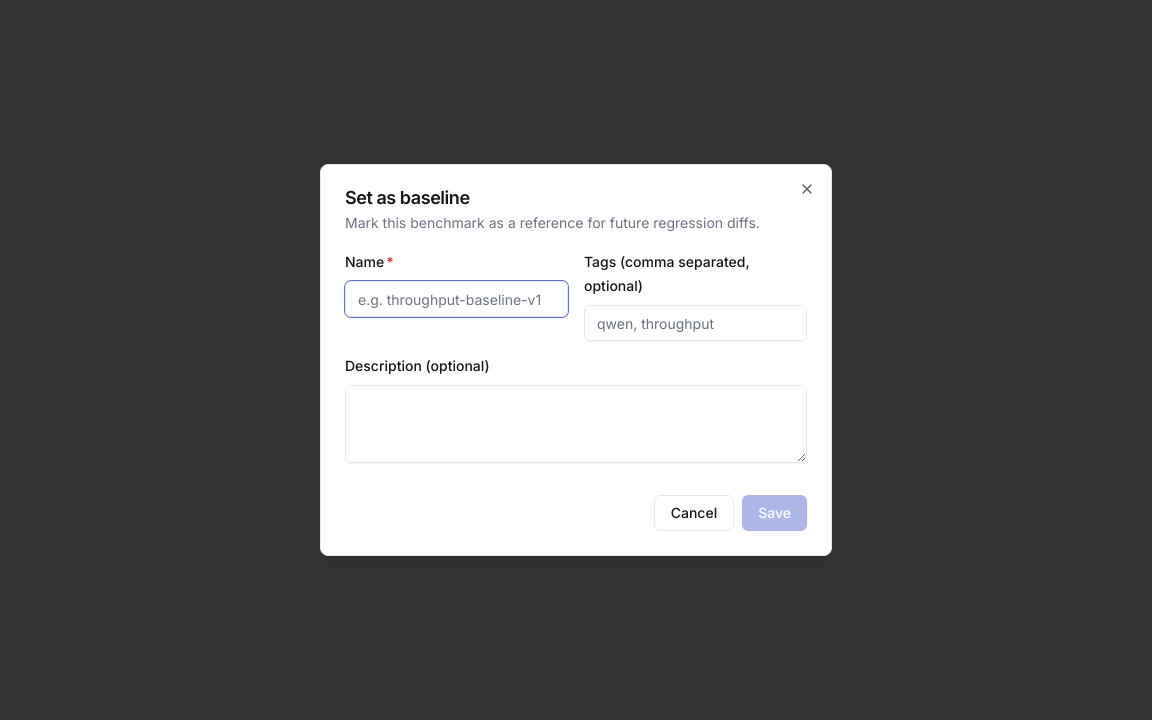
Scenario: SetBaselineDialog › submit button is disabled until name has a value
Expected: the button "Save" is disabled, [742,495,807,531]
Type "v1" into the field labelled "Name*".
click(456, 299); type("v1")  # box [345,281,568,317]
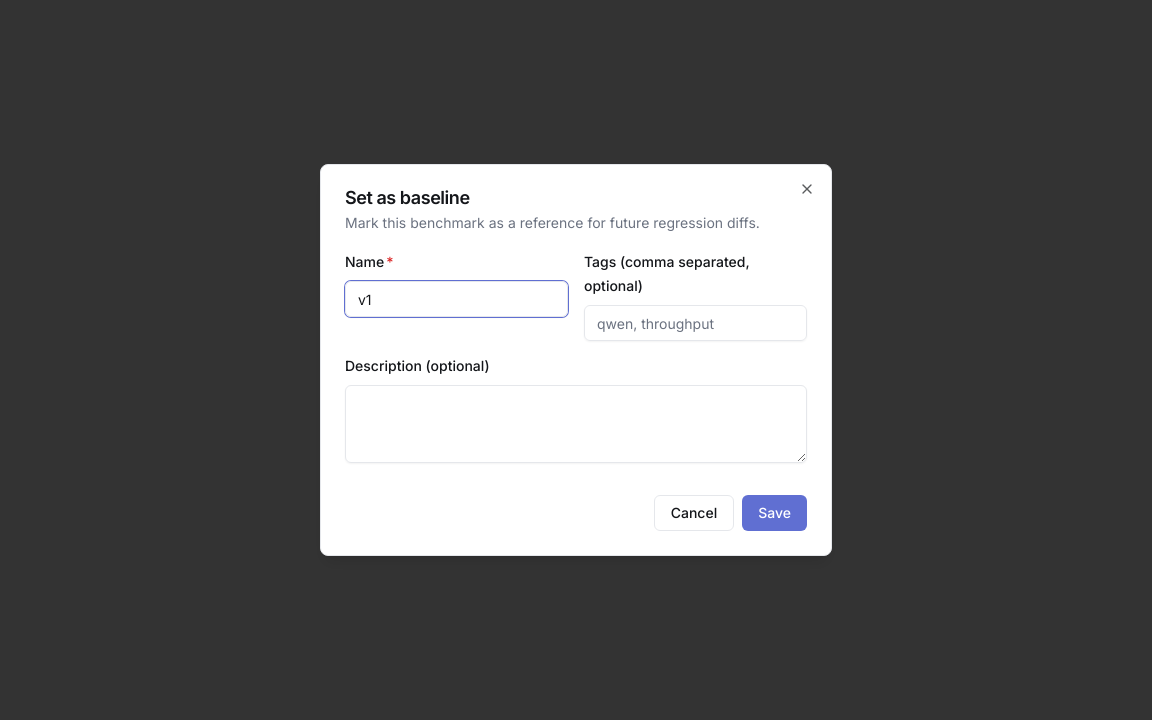
Result: the button "Save" is enabled at [742,495,807,531]
